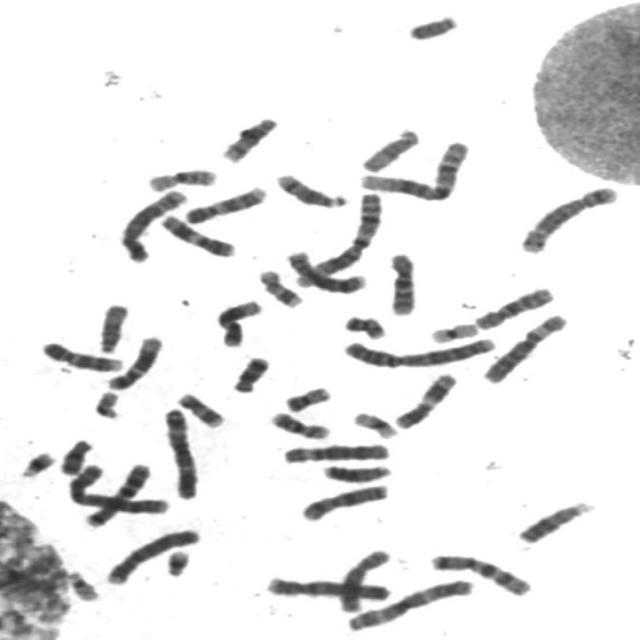A1: (287, 186, 387, 289), (355, 135, 474, 202)
A2: (336, 329, 504, 369), (63, 458, 175, 516)
A3: (341, 572, 479, 632), (158, 401, 204, 501)
B4: (101, 522, 205, 586), (261, 571, 396, 602)
B5: (515, 180, 624, 255), (114, 184, 192, 264)
C10: (469, 280, 560, 330), (382, 246, 423, 317)
C11: (389, 367, 462, 430), (154, 209, 240, 259)
C12: (102, 330, 168, 391), (212, 294, 268, 348)
C6: (478, 308, 572, 385), (277, 438, 394, 466)
C7: (424, 548, 537, 598), (79, 458, 156, 528)
C8: (281, 244, 373, 294), (333, 542, 396, 614)
C9: (180, 180, 271, 226), (36, 336, 127, 374)
D13: (513, 496, 600, 546), (318, 458, 398, 484)
D14: (216, 110, 284, 164), (270, 167, 354, 210)
D15: (356, 122, 425, 174), (93, 298, 134, 354)
E16: (266, 406, 336, 441), (143, 162, 222, 193)
E17: (253, 264, 308, 309), (172, 386, 229, 429)
E18: (228, 350, 275, 394), (55, 433, 98, 476)
F19: (348, 406, 404, 440), (424, 316, 483, 345)
F20: (280, 380, 336, 414), (339, 309, 391, 340)
G21: (14, 445, 61, 480), (160, 544, 196, 578)
G22: (62, 565, 104, 602), (88, 385, 126, 420)
X: (296, 478, 394, 522)
Y: (403, 9, 464, 42)
